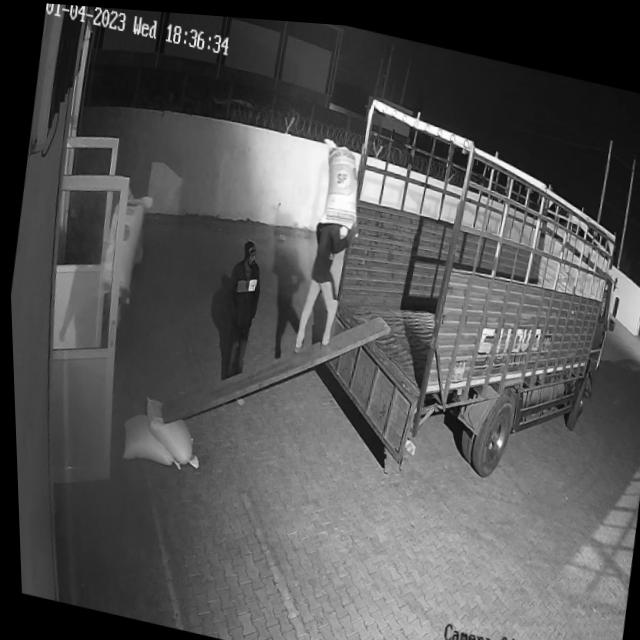sack: (92, 180, 155, 305), (314, 131, 368, 226), (134, 392, 203, 466), (114, 406, 184, 468)
